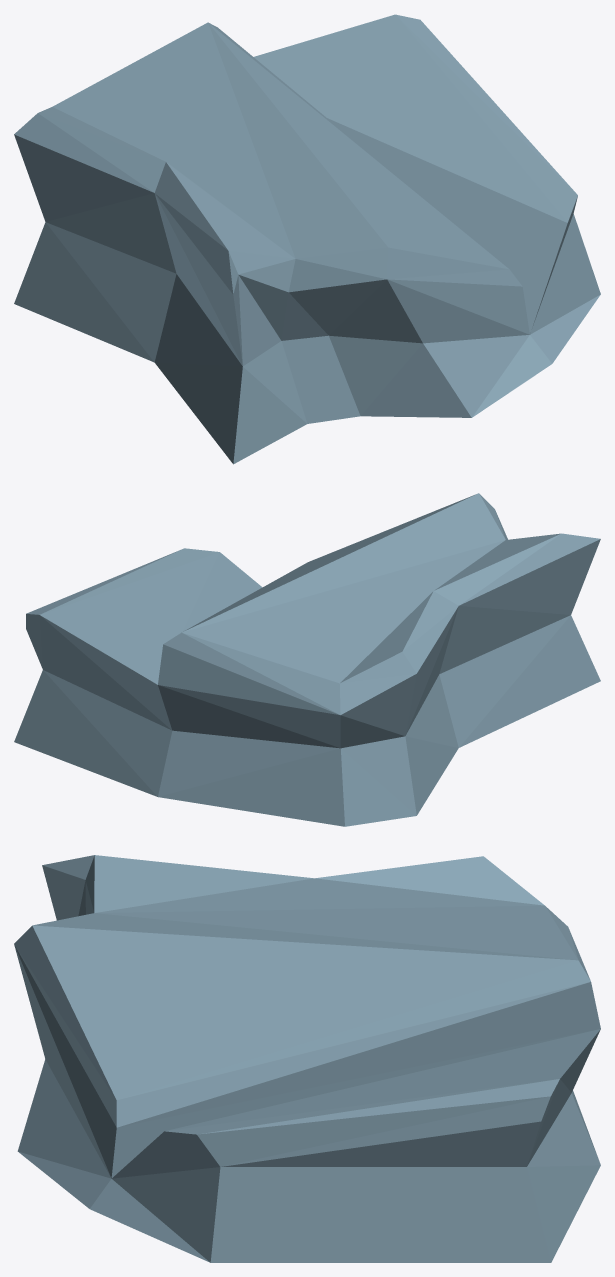
Rendered from _sapfir_1.fbx.
The picture shows the model from 3 angles, top to bottom: view 1: azimuth 30°, elevation 25°; view 2: azimuth 150°, elevation 25°; view 3: azimuth 270°, elevation 25°; orthographic projection. The views are drawn at different scales.
Parts seen in each view (by area): view 1: sapfir_1; view 2: sapfir_1; view 3: sapfir_1.
Part boxes in pixels (left/top/right/bottom): sapfir_1: left=14, top=14, right=600, bottom=464; sapfir_1: left=14, top=493, right=600, bottom=826; sapfir_1: left=14, top=855, right=600, bottom=1262.
Size of the model in its own units: 9.59 by 3.91 by 10.59.
